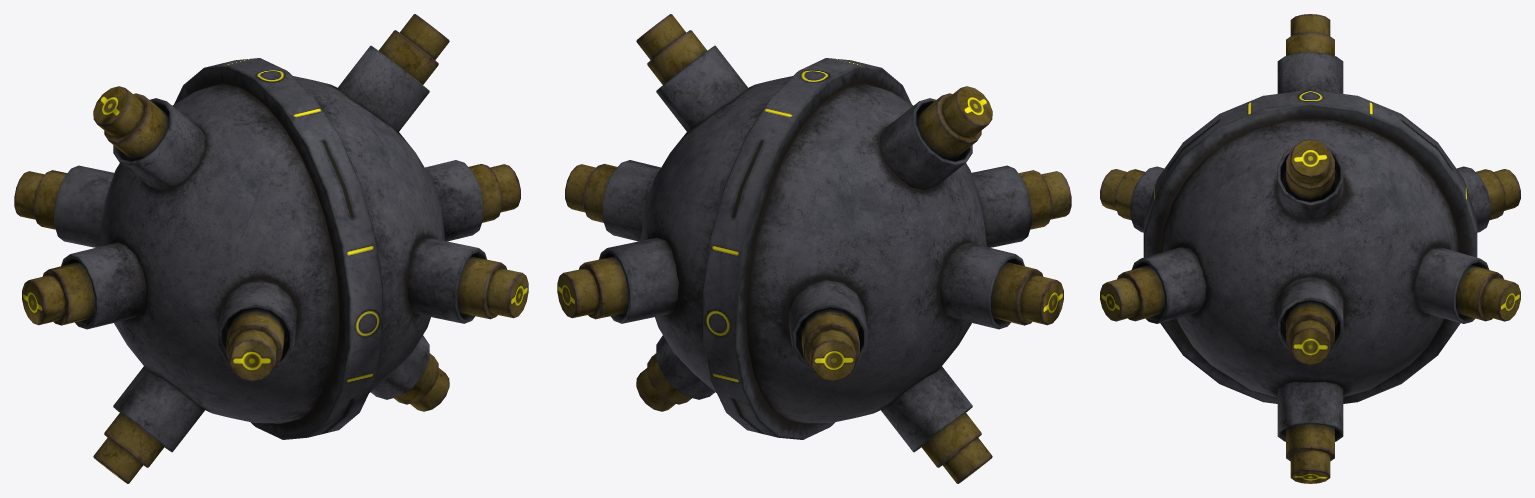
The model's file is bomb01.fbx.
The picture shows the model from 3 angles, left to right: view 1: azimuth 30°, elevation 25°; view 2: azimuth 150°, elevation 25°; view 3: azimuth 270°, elevation 25°; orthographic projection. The views are drawn at different scales.
Visible parts, largest first — view 1: Space Bomb 1; view 2: Space Bomb 1; view 3: Space Bomb 1.
Boxes of the visible parts, box(x1,y1,x2,y2) form: Space Bomb 1: box(14, 14, 528, 483); Space Bomb 1: box(557, 14, 1071, 483); Space Bomb 1: box(1100, 14, 1520, 483).
Bounding box in the file's own units: 222 × 175 × 194.
